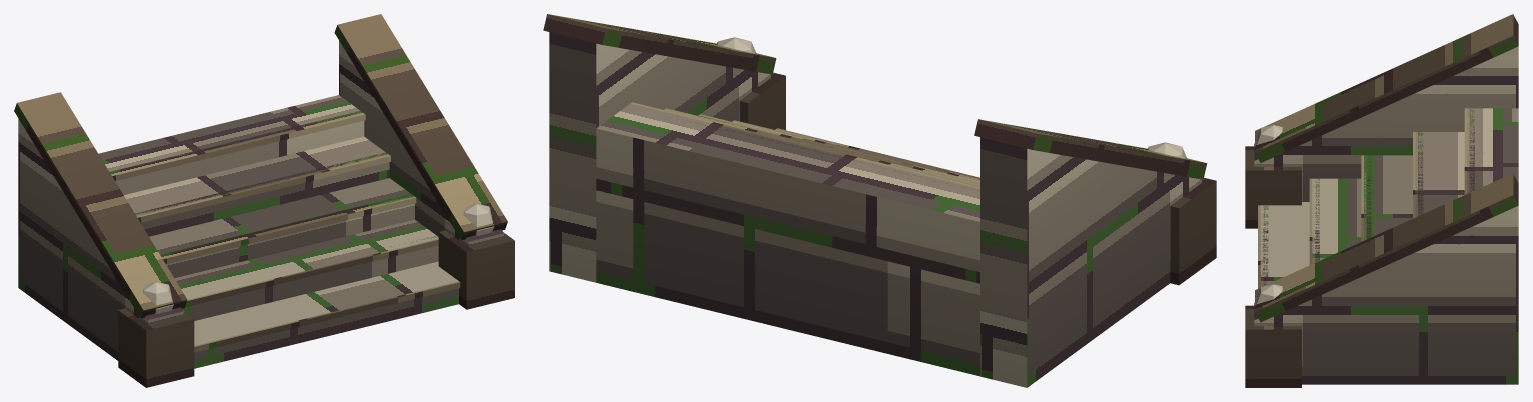
File: scene_stair_bed.glb
3 renders of one model, left to right at view 1: azimuth 30°, elevation 25°; view 2: azimuth 150°, elevation 25°; view 3: azimuth 270°, elevation 25°, orthographic. The views are drawn at different scales.
Parts seen in each view (by area): view 1: scene_stair_bed; view 2: scene_stair_bed; view 3: scene_stair_bed.
Boxes of the visible parts, x1,y1,x2,y2 form: scene_stair_bed: (14, 14, 514, 387); scene_stair_bed: (543, 14, 1216, 387); scene_stair_bed: (1245, 14, 1518, 387).
Size of the model in its own units: 3.36 by 1.64 by 2.12.
2 materials, 1 textured.
